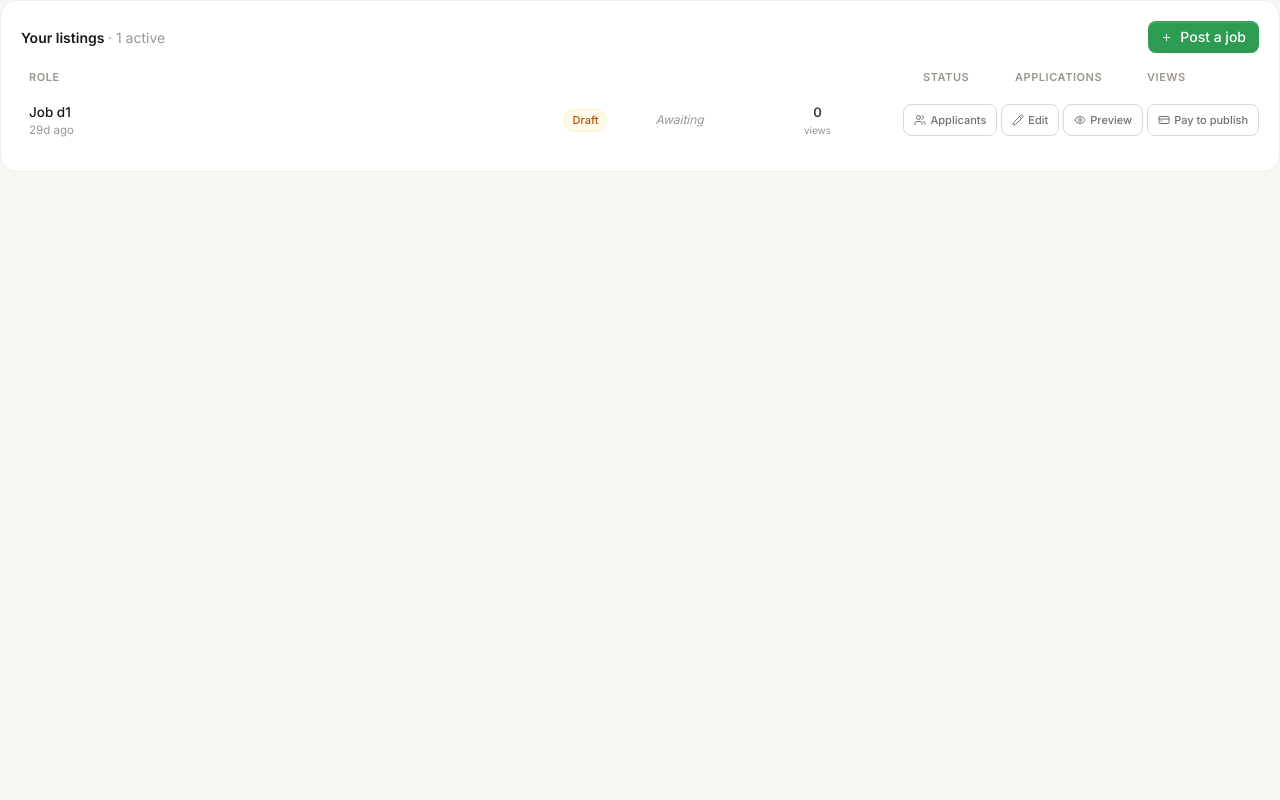
Test: ListingsPanel actions › reports a checkout failure and does not redirect
Step 1. Click the button named "Pay to publish Job d1" → (1203, 120), box top-left (1147, 104), bottom-right (1259, 136)
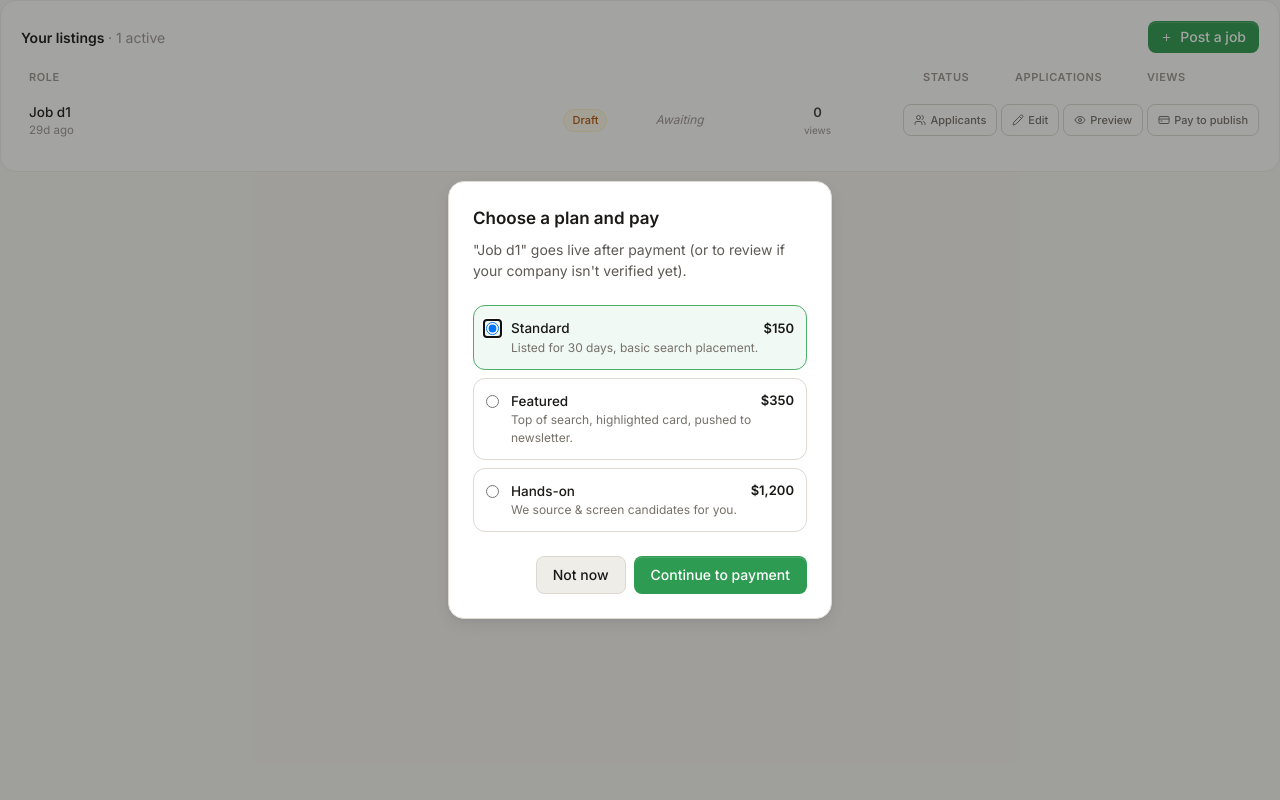
Step 2. Click the button "Continue to payment" → (720, 575), box top-left (634, 556), bottom-right (807, 594)
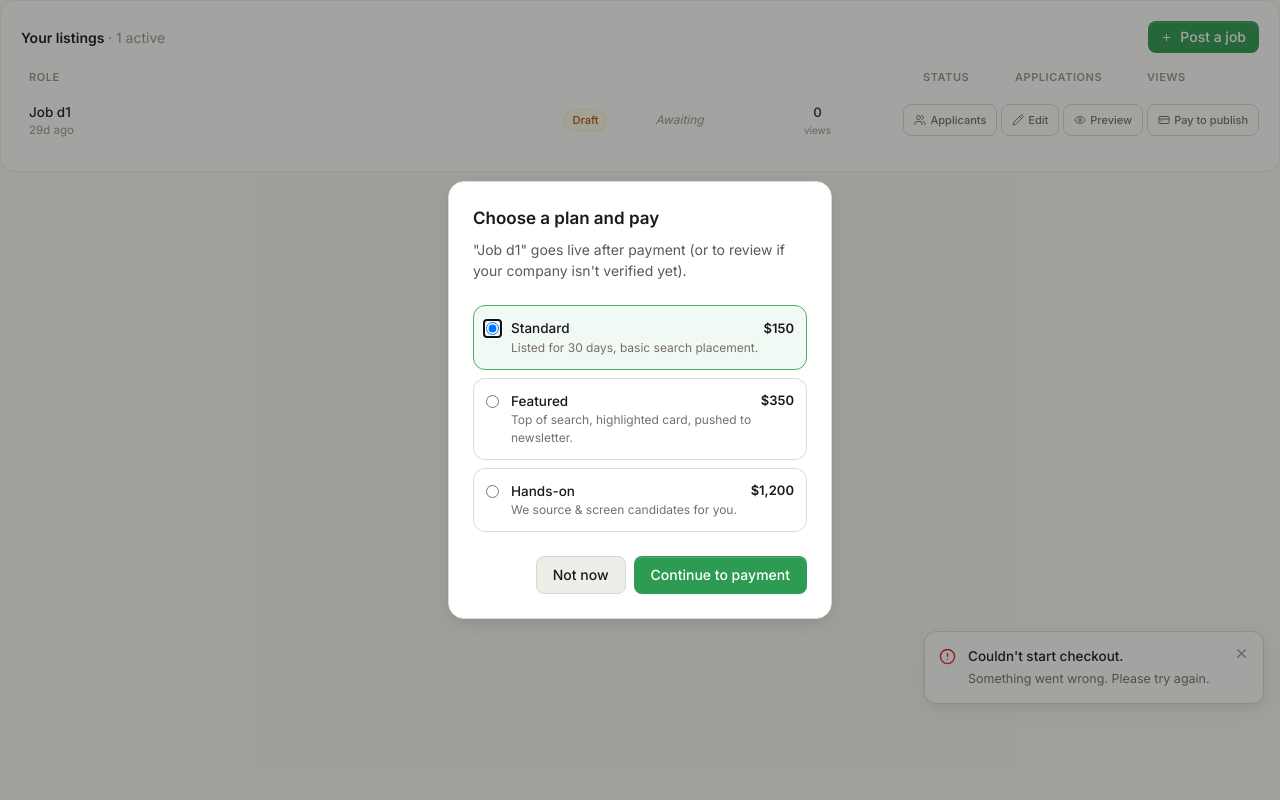
Result: the text "Couldn't start checkout." is shown at top-left (968, 648), bottom-right (1124, 664)
